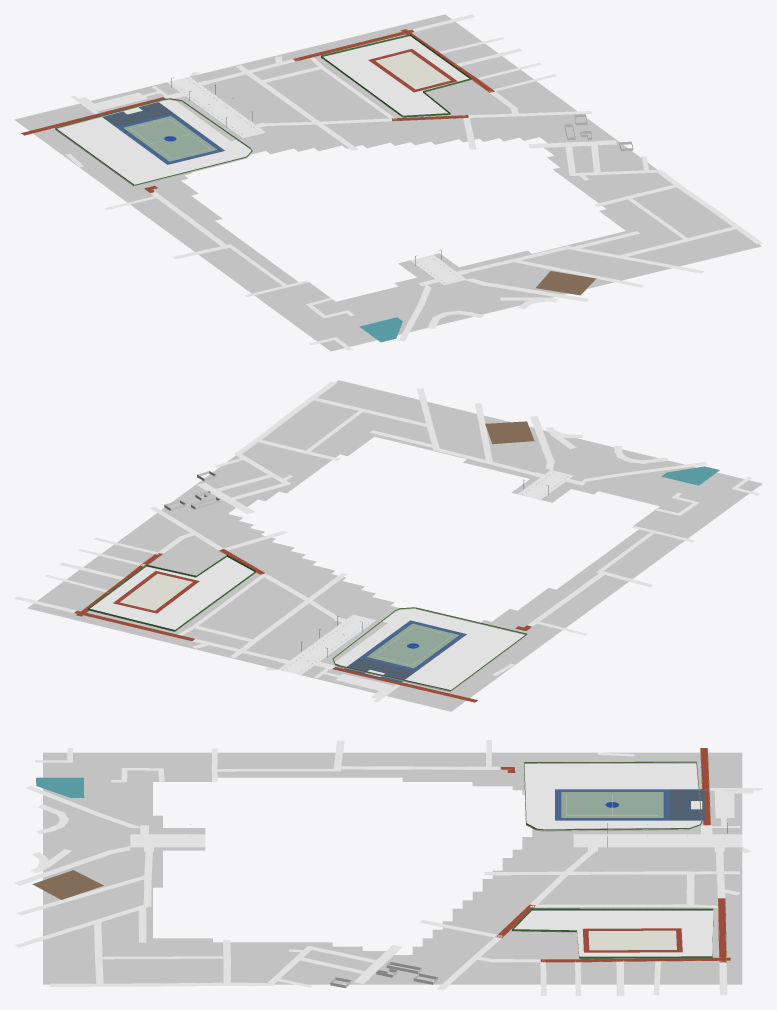
The model's file is a2_ground.glb.
3 renders of one model, top to bottom at view 1: azimuth 30°, elevation 25°; view 2: azimuth 150°, elevation 25°; view 3: azimuth 270°, elevation 25°, orthographic. The views are drawn at different scales.
Parts seen in each view (by area): view 1: a2_ground; view 2: a2_ground; view 3: a2_ground.
Boxes of the visible parts, x1=… form: a2_ground: x1=14, y1=14, x2=762, y2=351; a2_ground: x1=14, y1=380, x2=762, y2=711; a2_ground: x1=14, y1=740, x2=762, y2=995.
Bounding box in the file's own units: 485 × 9.6 × 600.
